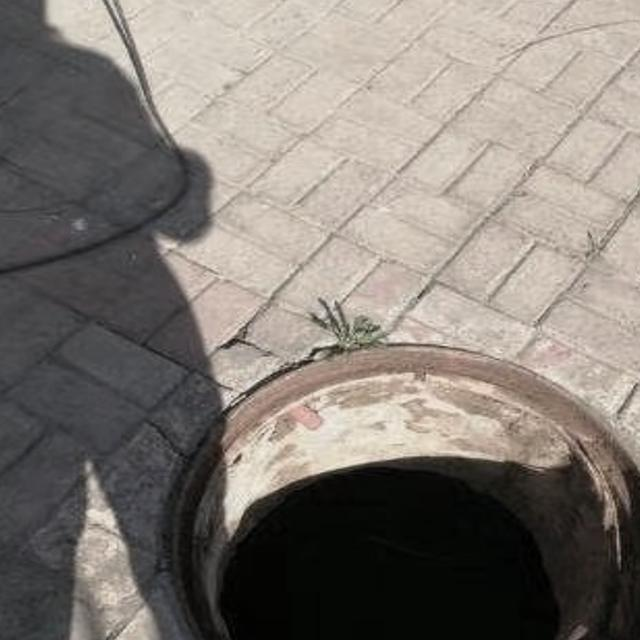lose: (142, 301, 640, 640)
